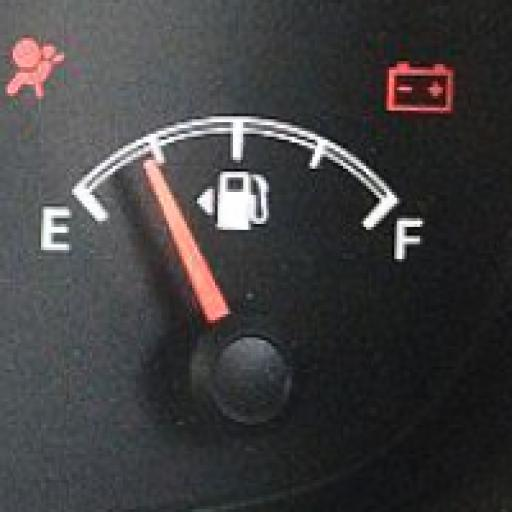empty: (39, 203, 73, 256)
fuel_icon: (216, 166, 270, 232)
full: (390, 214, 432, 263)
guage_area: (24, 115, 448, 444)
needle_center: (165, 296, 302, 430)
needle_tip: (142, 154, 176, 206)
